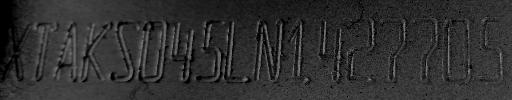letter: (78, 20, 116, 88), (441, 13, 475, 87), (135, 18, 171, 86), (109, 16, 143, 88), (252, 16, 286, 86), (407, 15, 441, 83), (346, 17, 380, 85), (474, 15, 506, 87), (194, 16, 226, 88), (1, 20, 35, 86), (378, 15, 408, 85), (284, 17, 314, 87), (222, 18, 252, 86), (52, 20, 82, 88), (315, 18, 345, 84), (169, 17, 197, 87), (34, 17, 60, 87)
